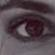eye: (26, 21, 43, 36)
